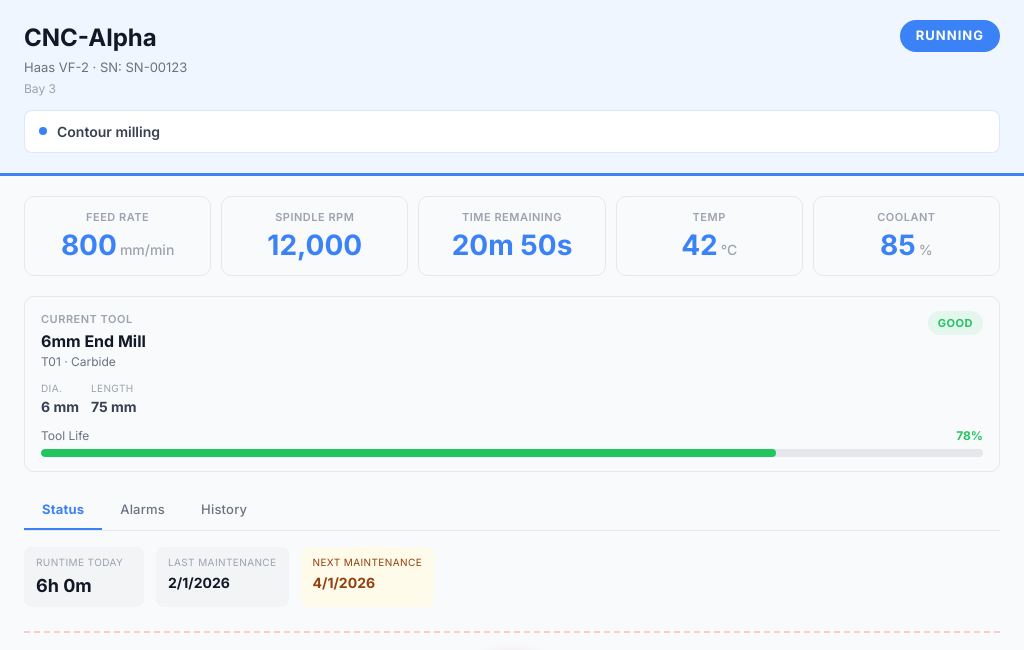
Test: MachineMonitor › switches to history tab
Click the button with test id "tab-history".
click(224, 511)  # box [183,492,265,530]
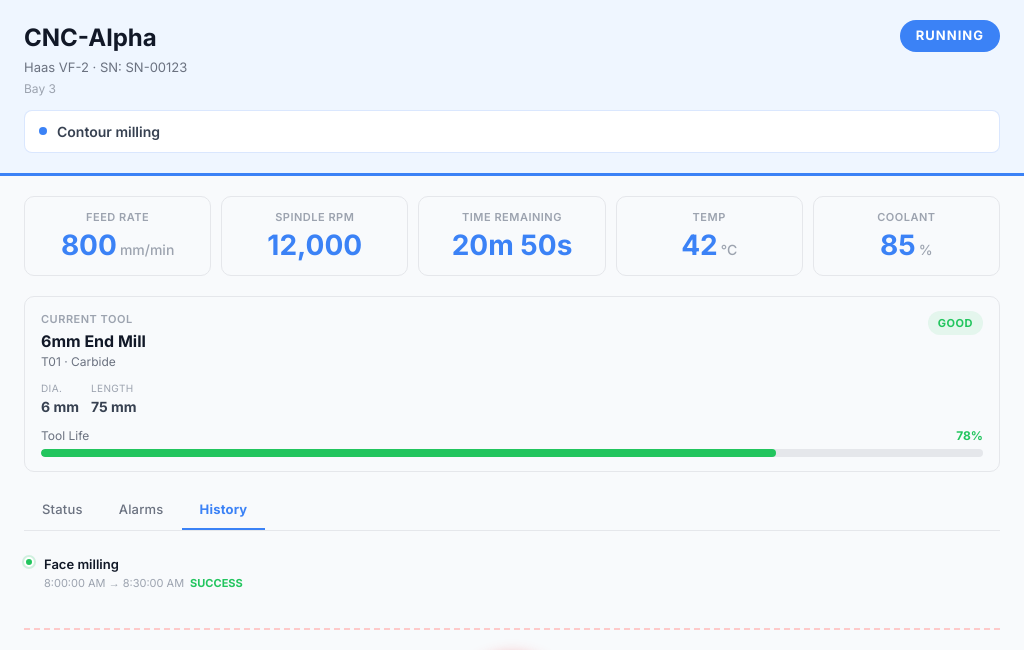
Now the element with test id "tab-content-history" is shown, box [24,556,243,590]
